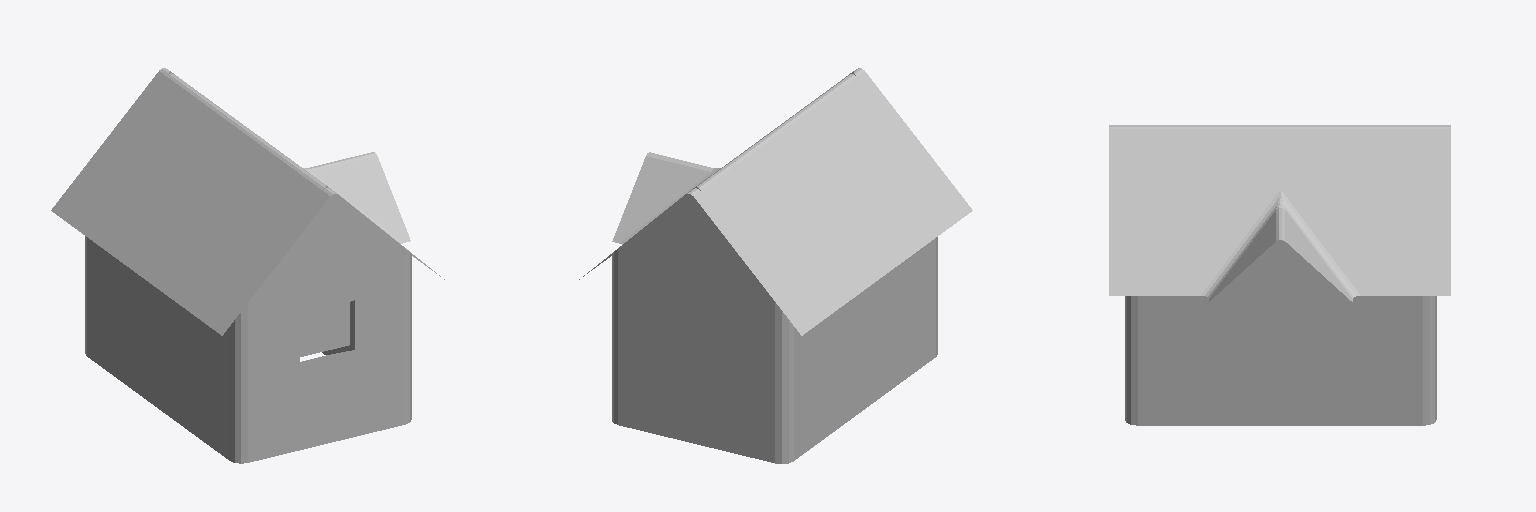
The model's file is WallthersHut2.obj.
3 renders of one model, left to right at view 1: azimuth 30°, elevation 25°; view 2: azimuth 150°, elevation 25°; view 3: azimuth 270°, elevation 25°, orthographic.
Visible parts, largest first — view 1: OuterWall, Dachziegel, Plane.007; view 2: OuterWall, Dachziegel; view 3: Dachziegel, OuterWall.
Part boxes in pixels (left/top/right/bottom): OuterWall: left=85, top=71, right=411, bottom=463; Dachziegel: left=51, top=68, right=444, bottom=335; Plane.007: left=300, top=302, right=349, bottom=356; OuterWall: left=612, top=72, right=937, bottom=463; Dachziegel: left=579, top=68, right=972, bottom=335; Dachziegel: left=1109, top=125, right=1450, bottom=301; OuterWall: left=1125, top=240, right=1436, bottom=425.
Size of the model in its own units: 1.33 by 1.37 by 1.65.